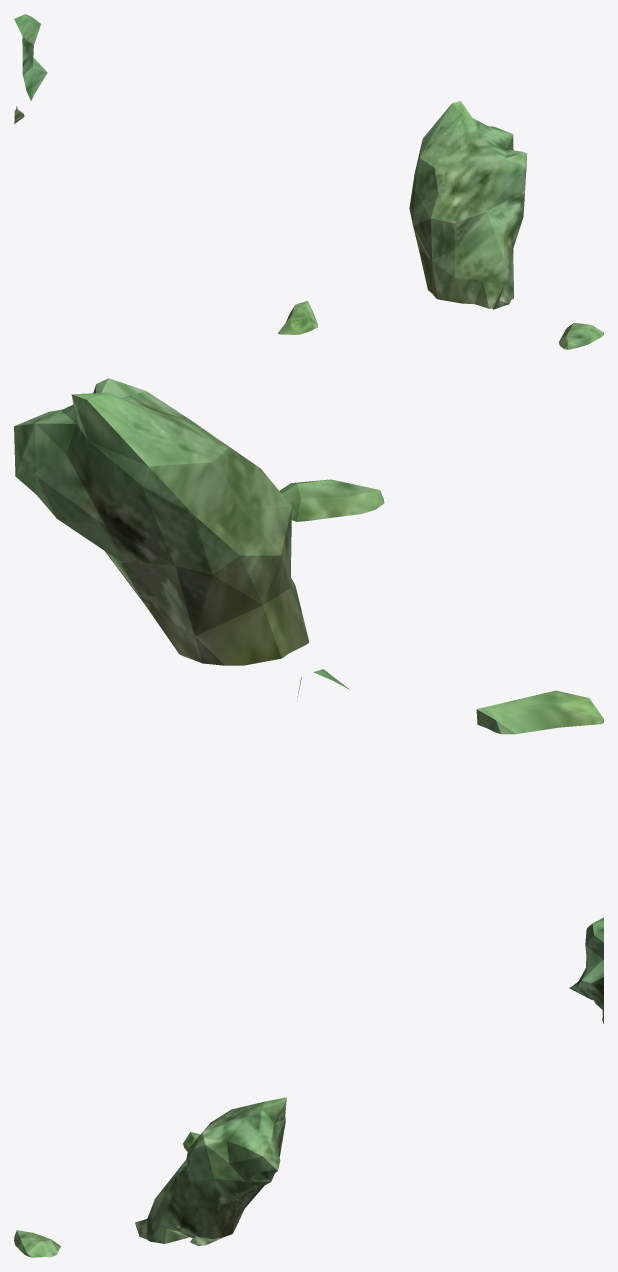
3 views of the same model, one above another, from view 1: azimuth 30°, elevation 25°; view 2: azimuth 150°, elevation 25°; view 3: azimuth 270°, elevation 25° (orthographic). The views are drawn at different scales.
Bounding box in the file's own units: 1.84 × 0.984 × 2.78.
1 material, 1 textured.
